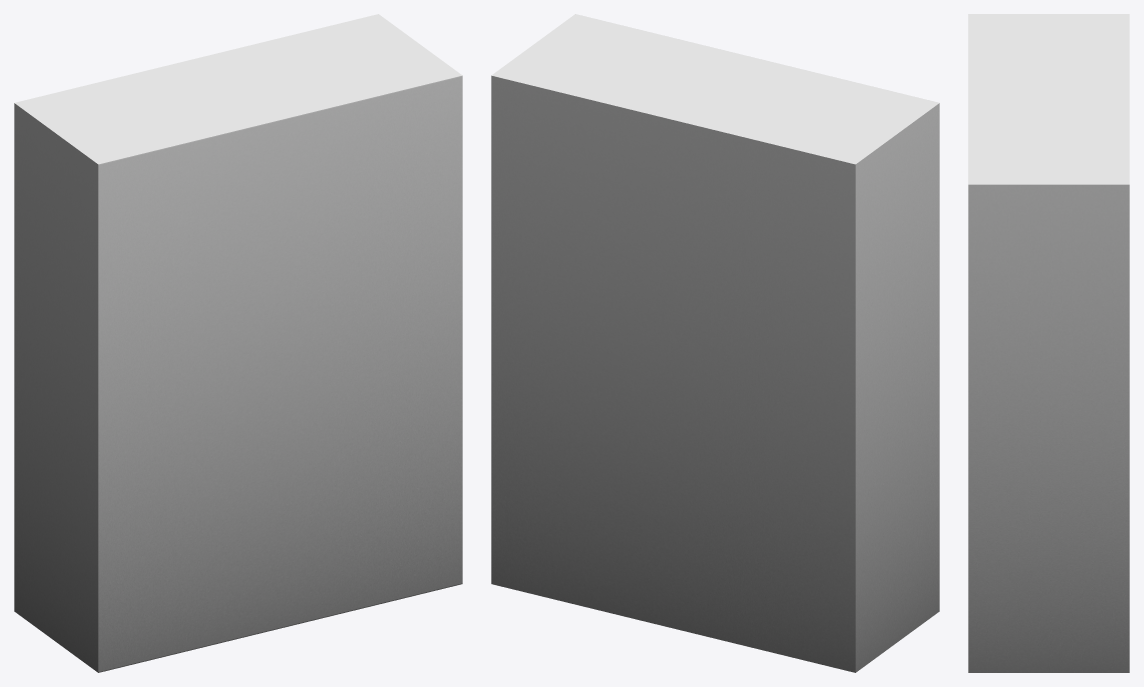
File: 2023-01-Leche-en-polvo.fbx
The picture shows the model from 3 angles, left to right: view 1: azimuth 30°, elevation 25°; view 2: azimuth 150°, elevation 25°; view 3: azimuth 270°, elevation 25°; orthographic projection. The views are drawn at different scales.
Parts seen in each view (by area): view 1: 01_obj_leche; view 2: 01_obj_leche; view 3: 01_obj_leche.
Boxes of the visible parts, bbox=[...] form: 01_obj_leche: bbox=[14, 14, 462, 672]; 01_obj_leche: bbox=[491, 14, 939, 672]; 01_obj_leche: bbox=[968, 14, 1129, 672].
Size of what is drawn, in the model's own units: 15 by 20 by 6.
1 material, 1 textured.
